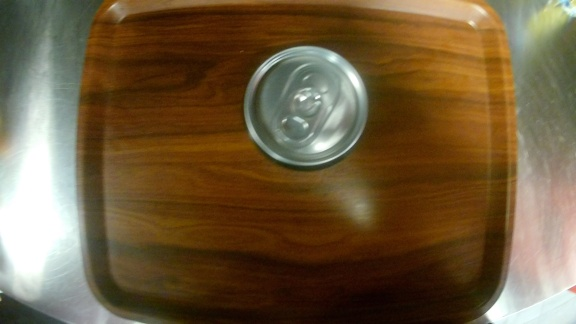kutukola: (240, 41, 375, 175)
